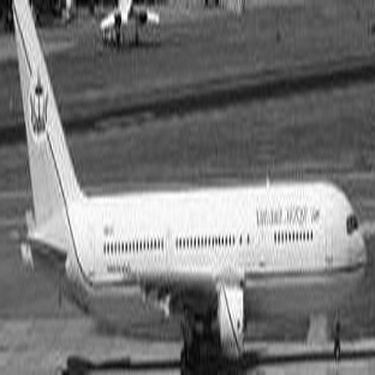airplane: (6, 3, 371, 370), (82, 1, 170, 56)
